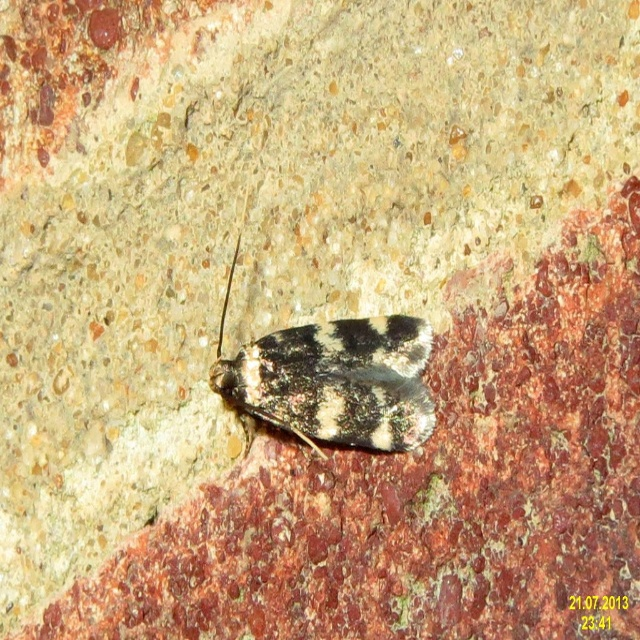Moths and butterflies: (206, 173, 436, 463)
